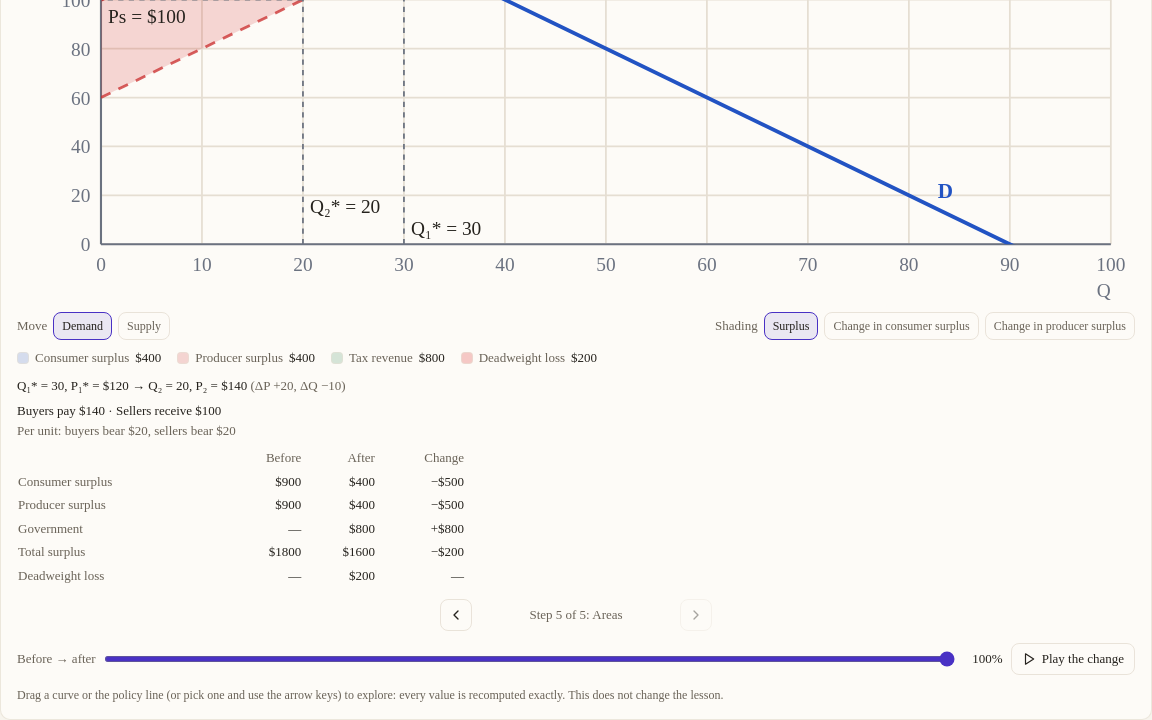
it: market_2d rendering › animates when motion is allowed
The image size is (1152, 720).
(page scrolled)
Click the button "Play the change".
click(1073, 659)  # box [1011,643,1135,675]
(page scrolled)
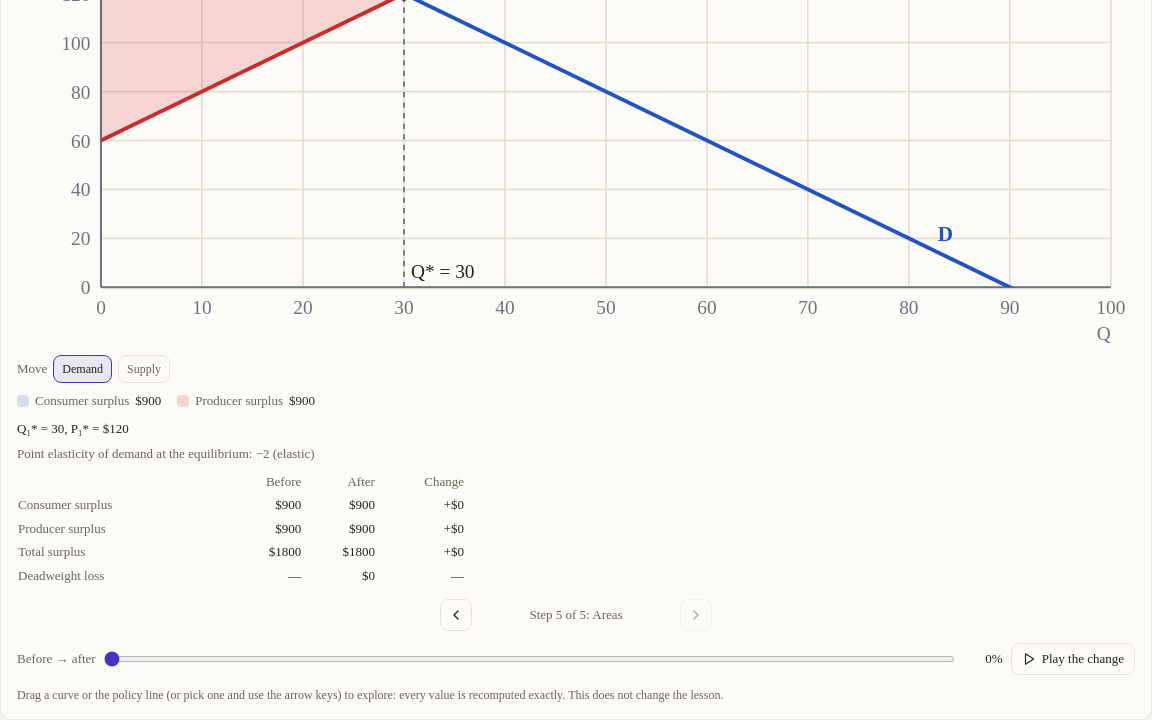
Expected: the slider holds "0", [104,656,955,662]
